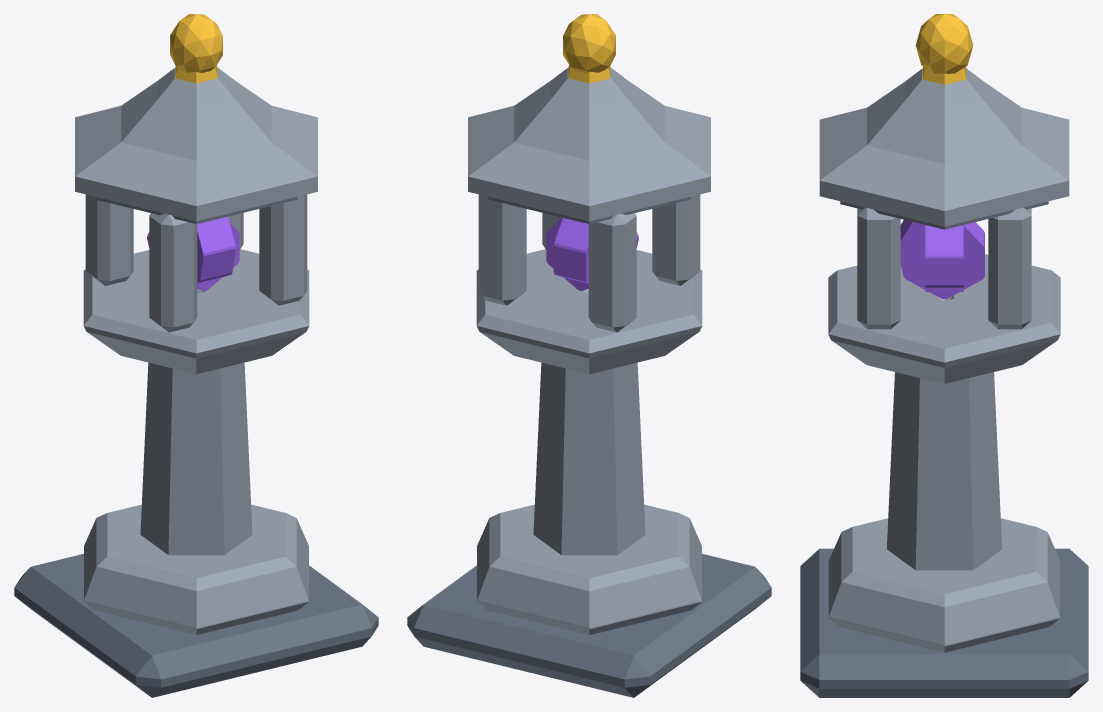
Rendered from Prop_realm_of_legends_SpiritLantern.glb.
The picture shows the model from 3 angles, left to right: view 1: azimuth 30°, elevation 25°; view 2: azimuth 150°, elevation 25°; view 3: azimuth 270°, elevation 25°; orthographic projection. The views are drawn at different scales.
Visible parts, largest first — view 1: StoneLight_9AA4B2, StoneDark_6B7686, Gold_FFC83D, ZoneViolet_A66BFF; view 2: StoneLight_9AA4B2, StoneDark_6B7686, Gold_FFC83D, ZoneViolet_A66BFF; view 3: StoneLight_9AA4B2, StoneDark_6B7686, ZoneViolet_A66BFF, Gold_FFC83D.
Boxes of the visible parts, <box> form: StoneLight_9AA4B2: <box>75,68,317,634</box>; StoneDark_6B7686: <box>14,197,378,697</box>; Gold_FFC83D: <box>170,14,222,83</box>; ZoneViolet_A66BFF: <box>147,216,239,290</box>; StoneLight_9AA4B2: <box>468,68,710,634</box>; StoneDark_6B7686: <box>407,197,771,697</box>; Gold_FFC83D: <box>563,14,615,83</box>; ZoneViolet_A66BFF: <box>546,217,638,290</box>; StoneLight_9AA4B2: <box>819,68,1069,652</box>; StoneDark_6B7686: <box>800,201,1088,697</box>; ZoneViolet_A66BFF: <box>900,220,984,298</box>; Gold_FFC83D: <box>915,14,973,84</box>.
Size of the model in its own units: 3 by 7.24 by 3.
